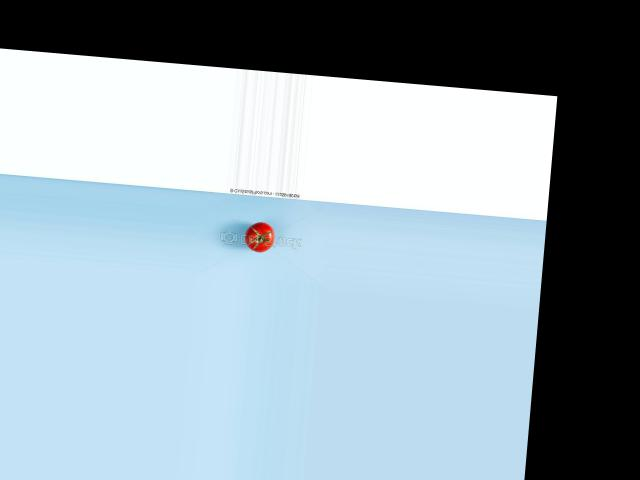tomato: (244, 220, 275, 253)
